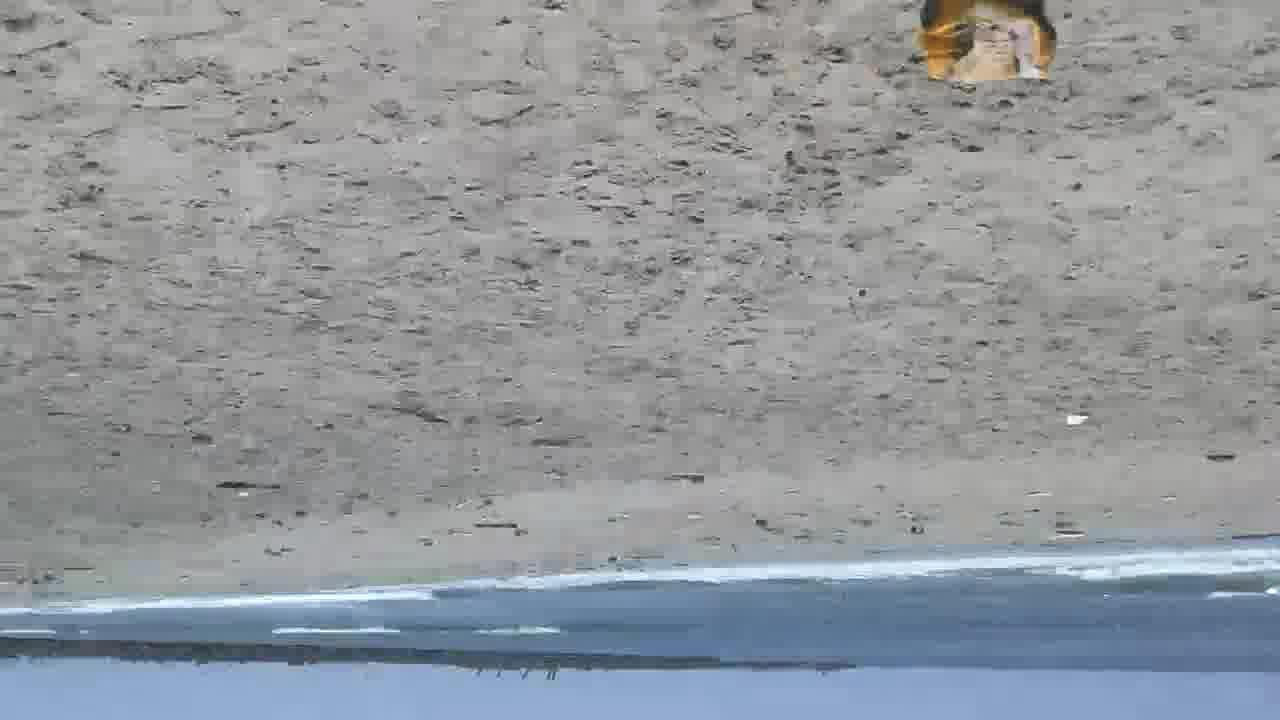obj: (910, 1, 1058, 85)
sand/background: (1, 519, 1279, 719)
